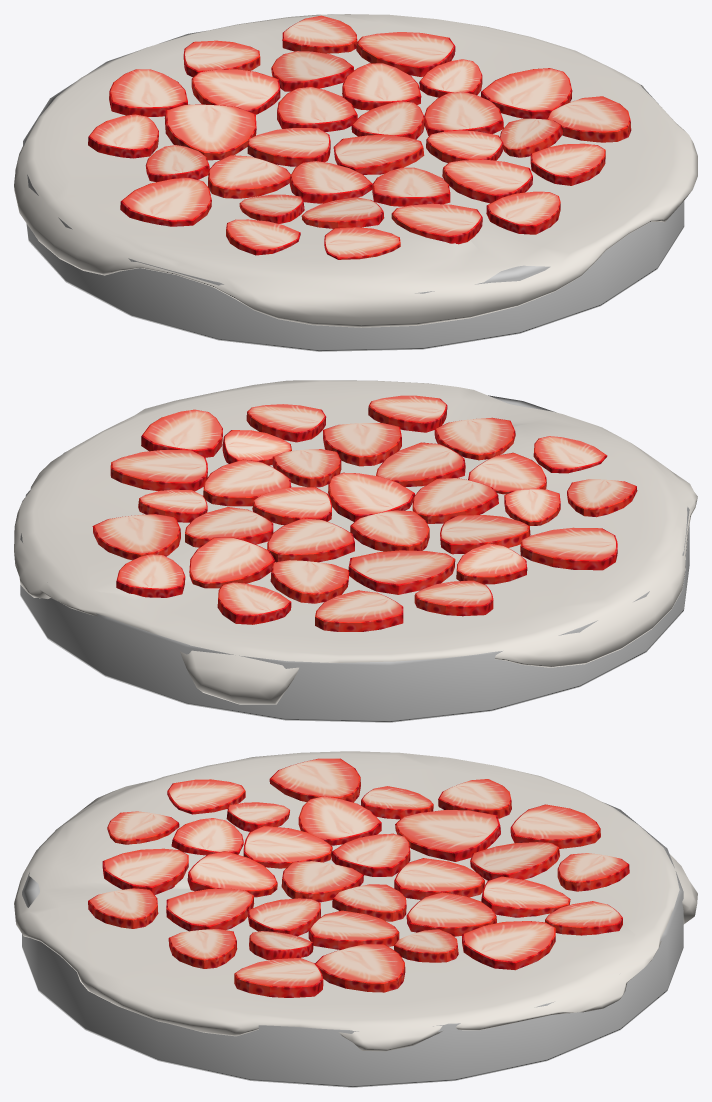
3 renders of one model, top to bottom at view 1: azimuth 30°, elevation 25°; view 2: azimuth 150°, elevation 25°; view 3: azimuth 270°, elevation 25°, orthographic.
Visible parts, largest first — view 1: pPlane40; view 2: pPlane40; view 3: pPlane40.
Boxes of the visible parts, <box> form: pPlane40: <box>14,14,697,351</box>; pPlane40: <box>14,380,697,722</box>; pPlane40: <box>14,751,697,1087</box>.
Bounding box in the file's own units: 31.05 × 3.91 × 31.07.
